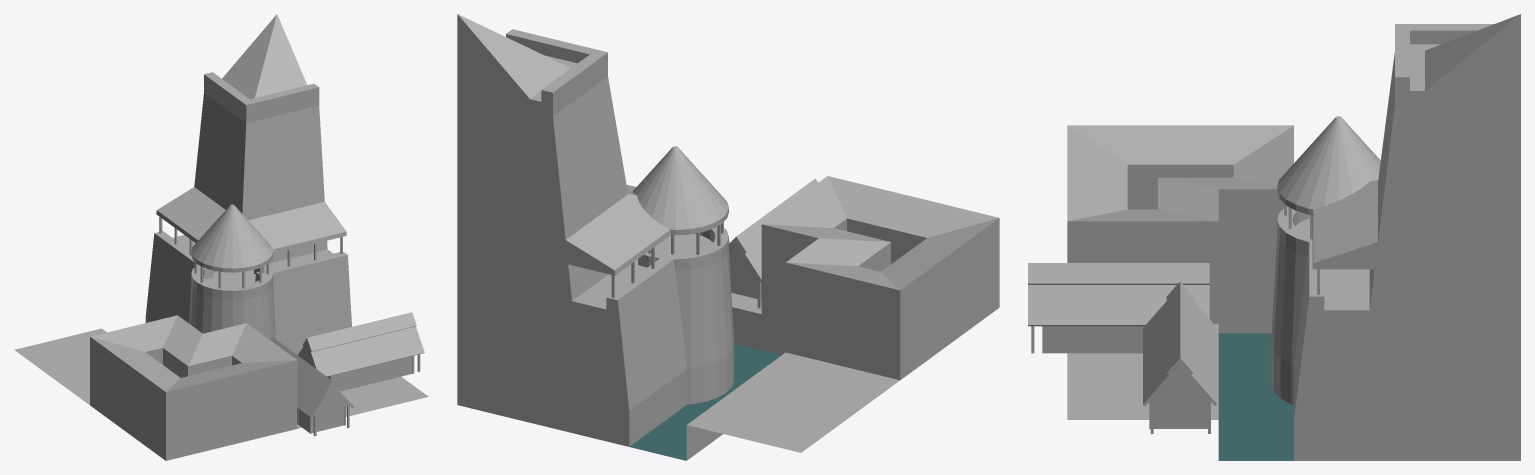
The picture shows the model from 3 angles, left to right: view 1: azimuth 30°, elevation 25°; view 2: azimuth 150°, elevation 25°; view 3: azimuth 270°, elevation 25°; orthographic projection. The views are drawn at different scales.
Parts seen in each view (by area): view 1: wc12; view 2: wc12; view 3: wc12.
Boxes of the visible parts, x1,y1,x2,y2 form: wc12: [14, 14, 428, 460]; wc12: [457, 14, 999, 460]; wc12: [1028, 14, 1520, 460].
Size of the model in its own units: 32.42 by 32.63 by 32.59.
